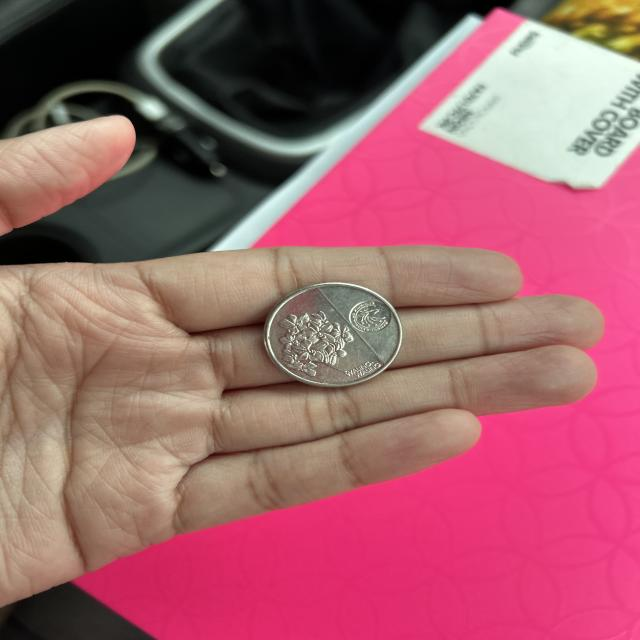1_New_Back: (274, 301, 361, 371)
